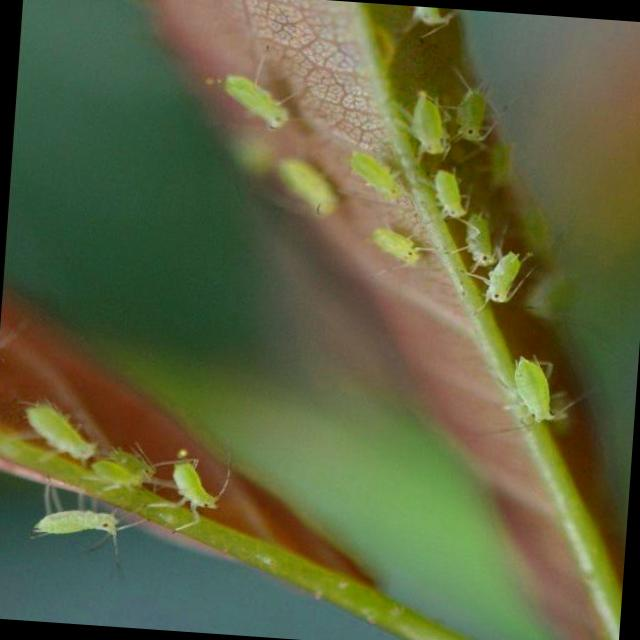aphid: (23, 479, 147, 568), (490, 353, 582, 445), (192, 66, 305, 140), (255, 156, 352, 234), (20, 400, 100, 465), (478, 240, 532, 316), (344, 148, 404, 202), (406, 89, 450, 158), (368, 224, 424, 266), (450, 84, 488, 144), (429, 168, 468, 221)
